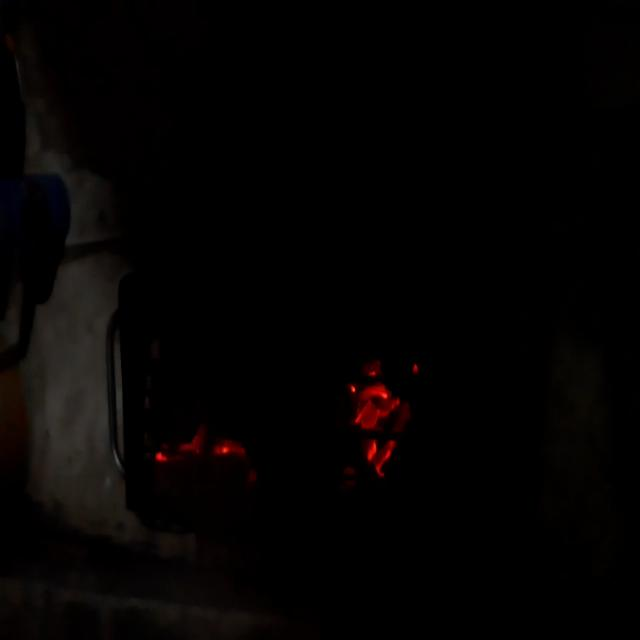Fire: (345, 340, 428, 492), (141, 409, 247, 500)
